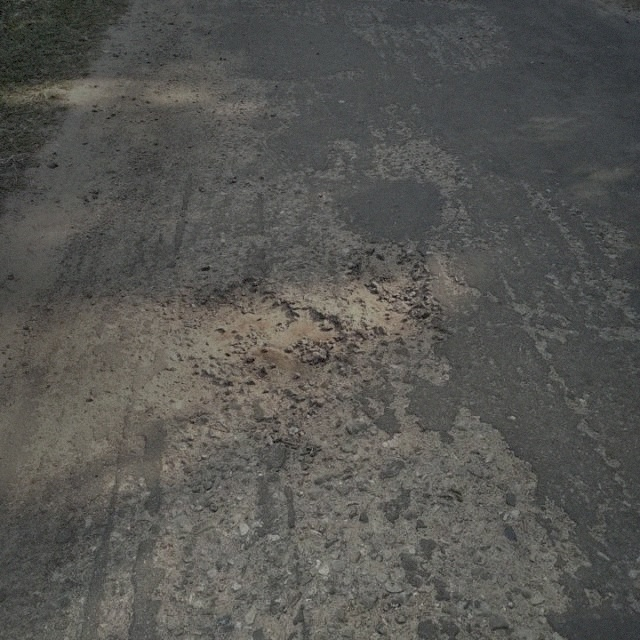pothole: (173, 276, 343, 398), (339, 242, 442, 346)
